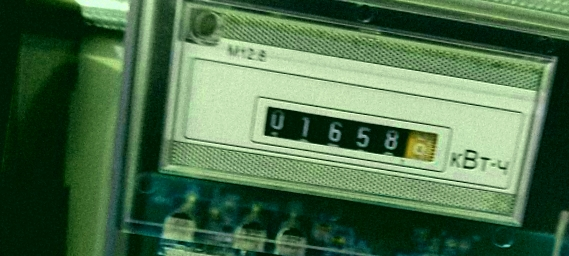0: (267, 108, 287, 131)
1: (296, 113, 313, 139)
5: (353, 123, 372, 149)
6: (324, 118, 346, 144)
8: (381, 127, 401, 151)
9: (409, 139, 428, 162)
screen: (245, 91, 457, 178)
